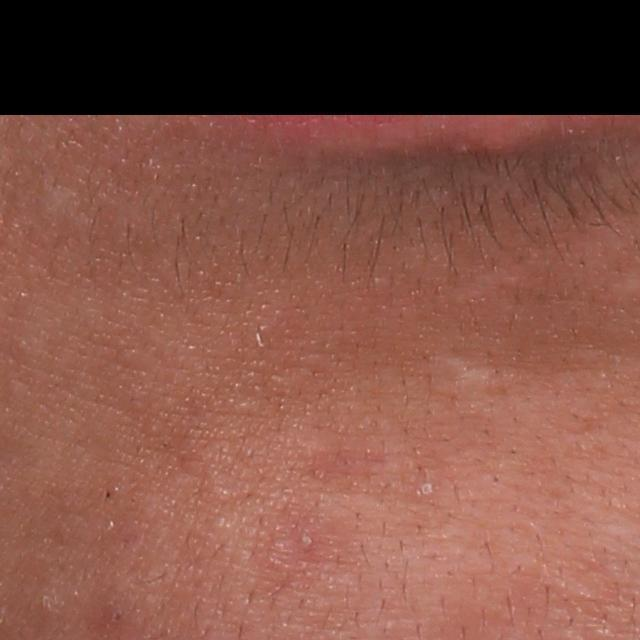comedo: (103, 608, 128, 629)
hypertrophic_scar: (444, 362, 502, 418)
